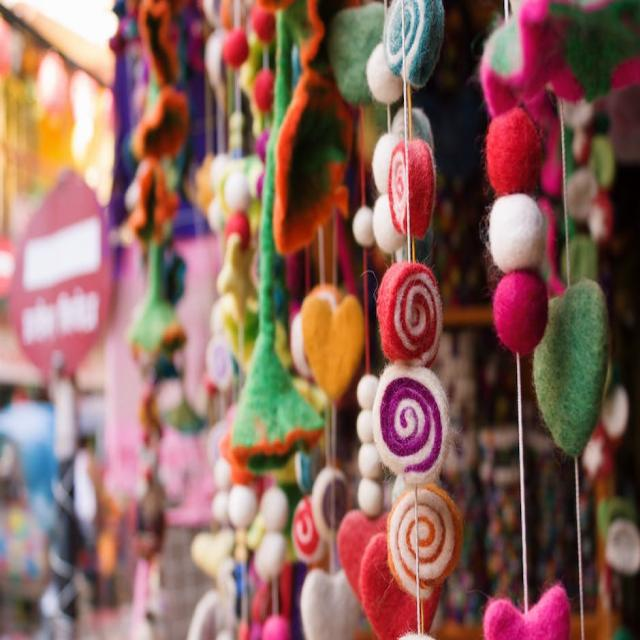no entry: (13, 170, 108, 386)
